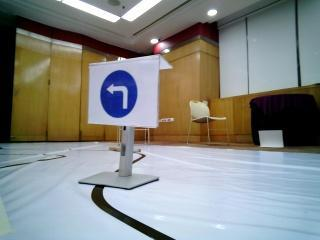left: (91, 68, 155, 121)
